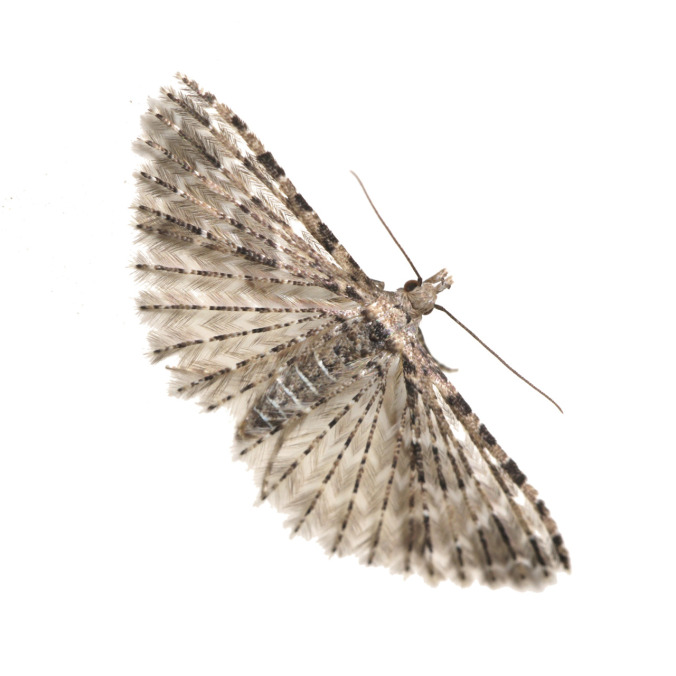Alucitidae: (126, 71, 577, 602)
moth: (124, 69, 575, 600)
